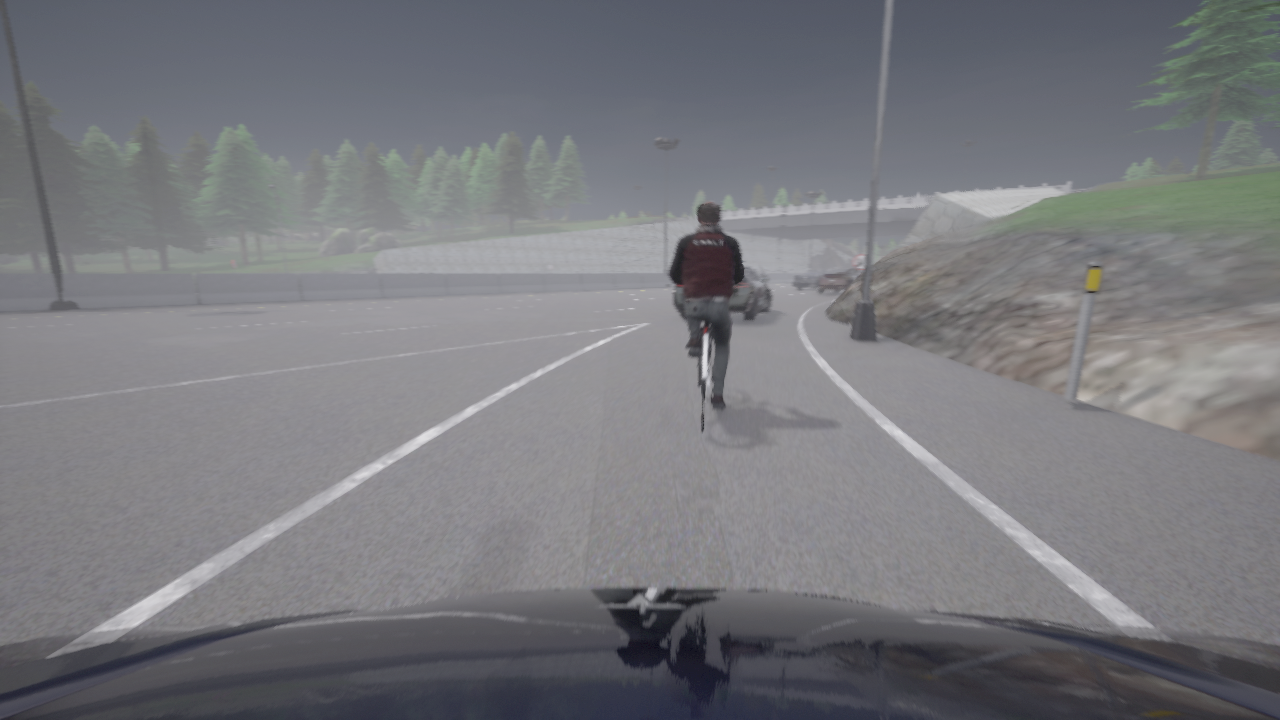cyclist: (0, 588, 1279, 719), (673, 260, 770, 321), (689, 322, 724, 431), (817, 268, 859, 293), (793, 270, 825, 289), (862, 270, 863, 271)
